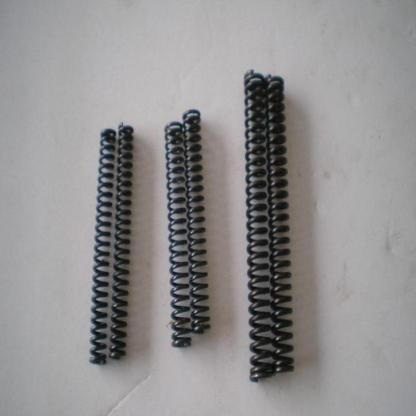FOD: (242, 68, 277, 386), (265, 72, 296, 377), (182, 104, 213, 334), (108, 119, 136, 362), (164, 119, 193, 351), (88, 127, 115, 368)
